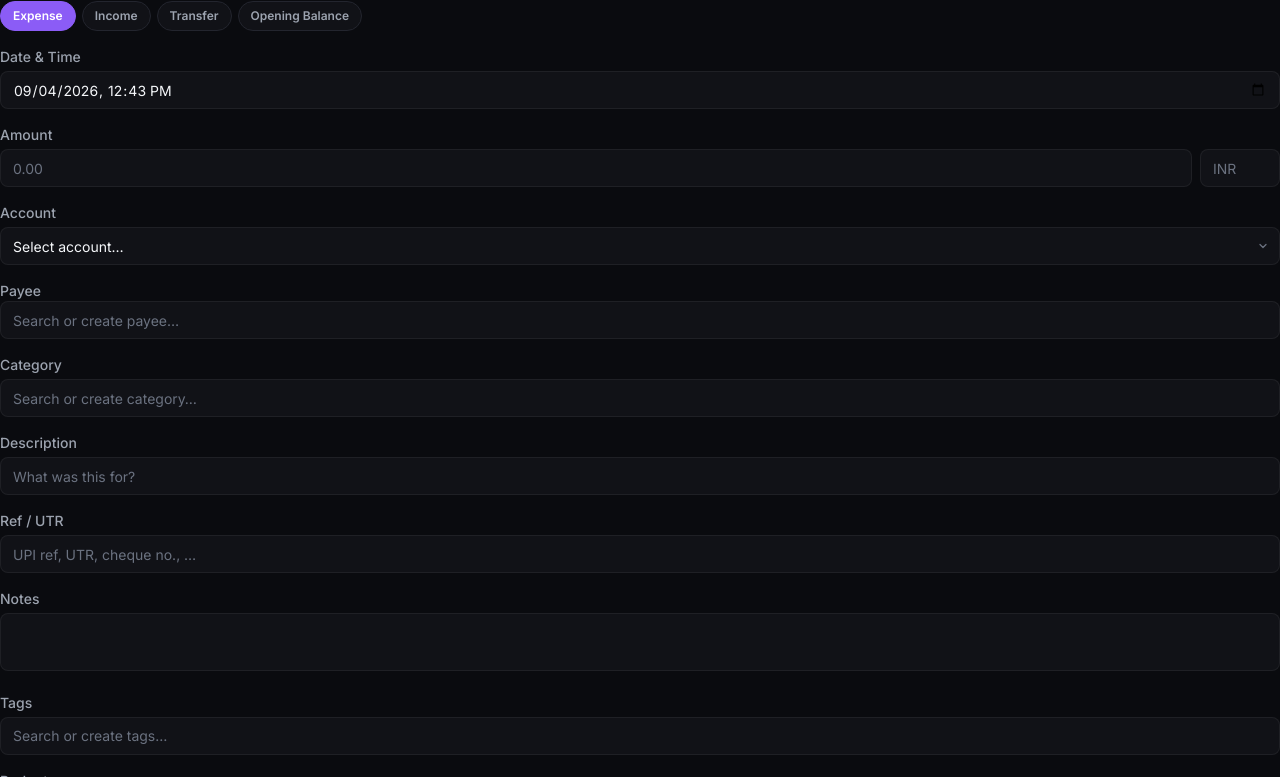
Test: TransactionForm component › validates amount must be greater than 0
Select "HDFC Savings (INR)" in the dropdown labelled "Account" at (640, 246), box [0,227,1279,265]
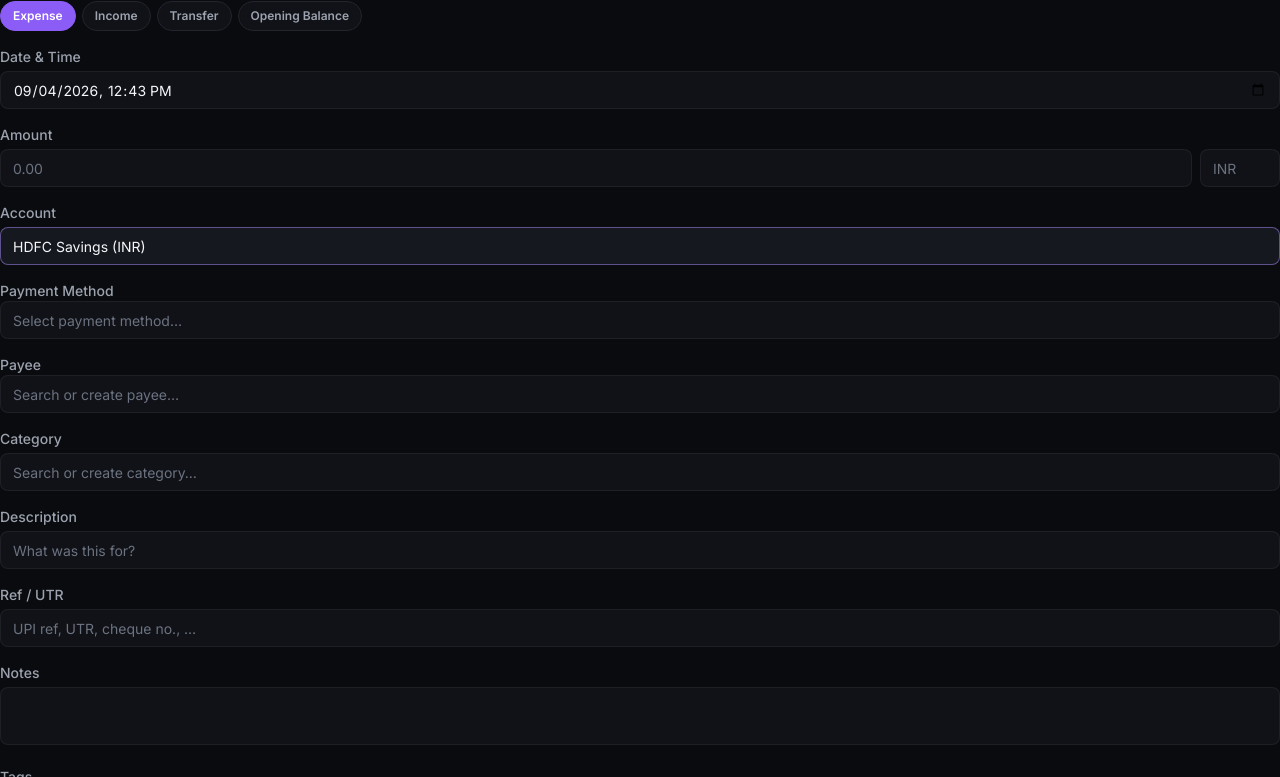
Type "0" into the number field labelled "Amount" at (596, 168), box [0,149,1192,187]
(page scrolled)
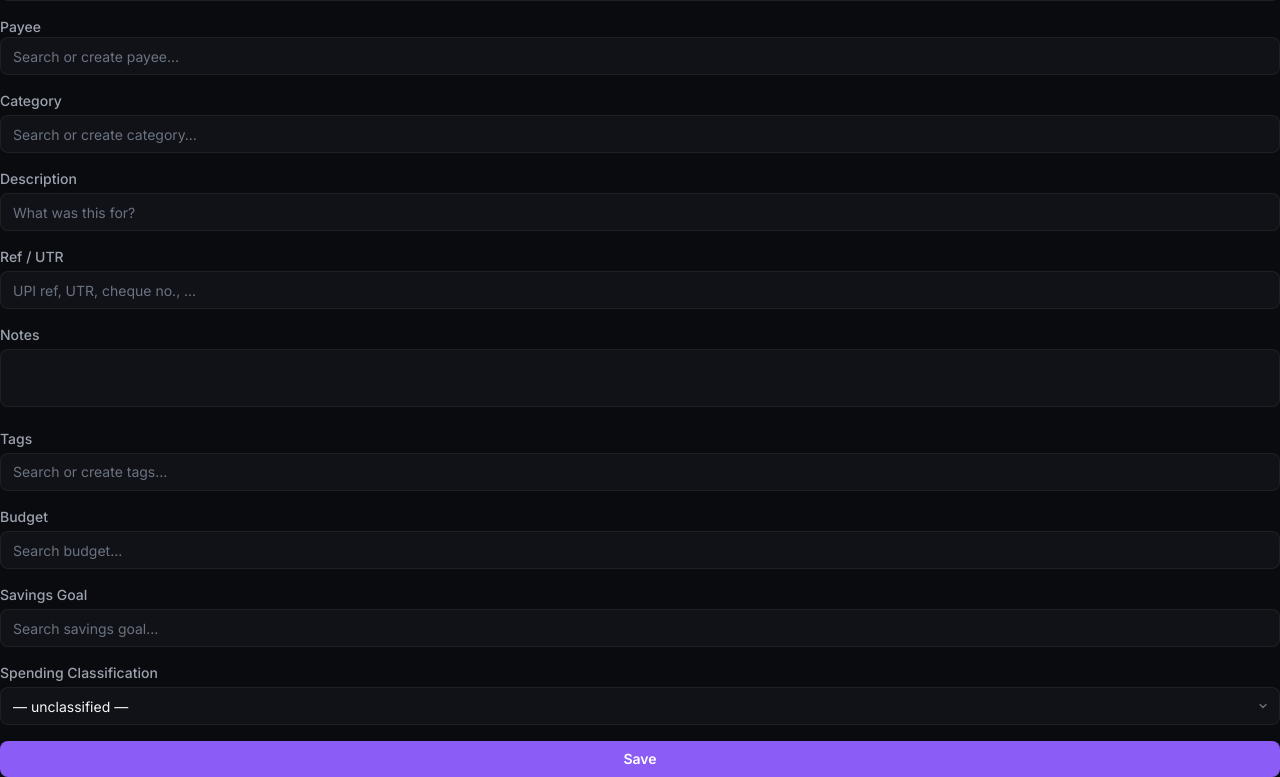
Click the button "Save" at (640, 759), box [0,741,1279,776]
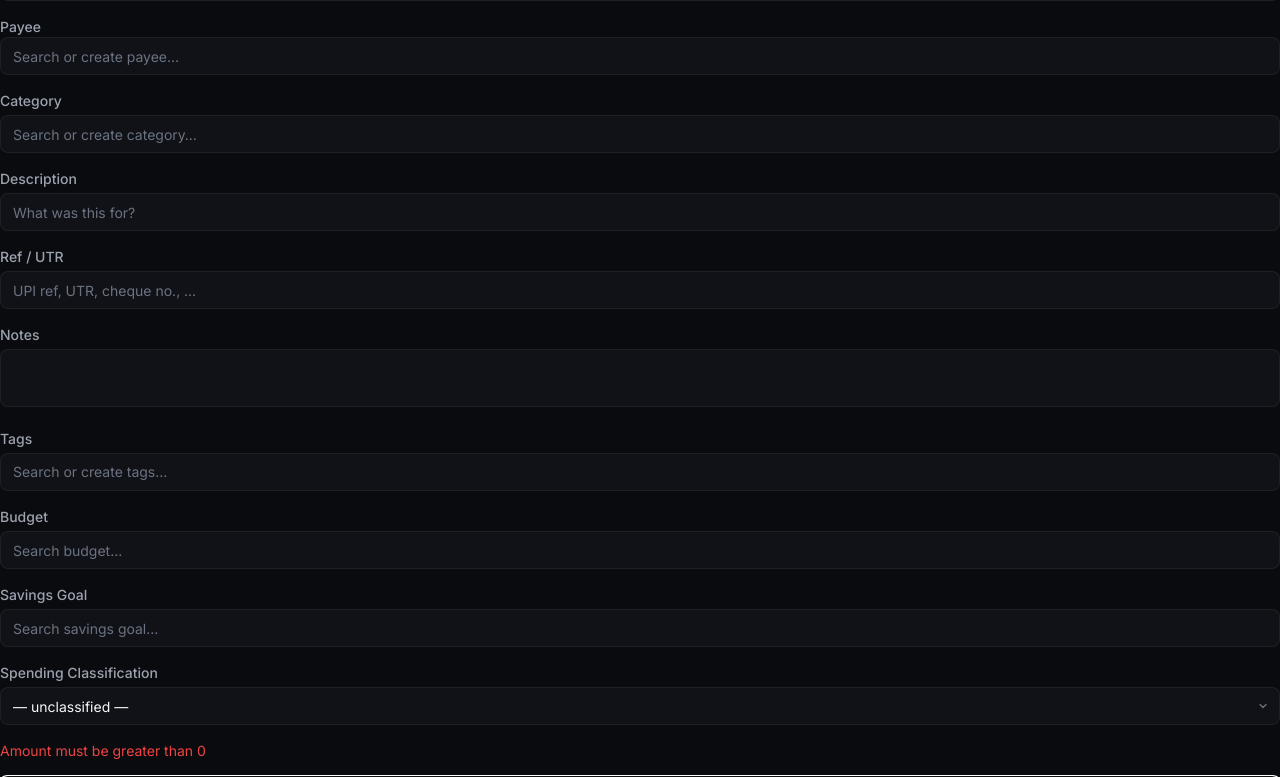
Check: the message reads "Amount must be greater than 0", box [0,742,206,759]
